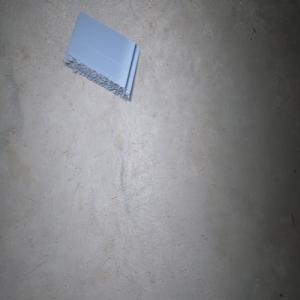PlasticPart: (63, 11, 140, 101)
